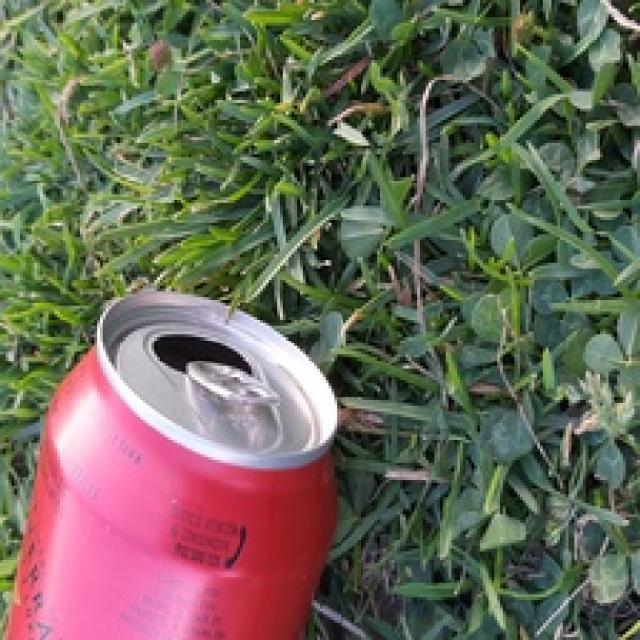recyclable: (5, 290, 342, 640)
